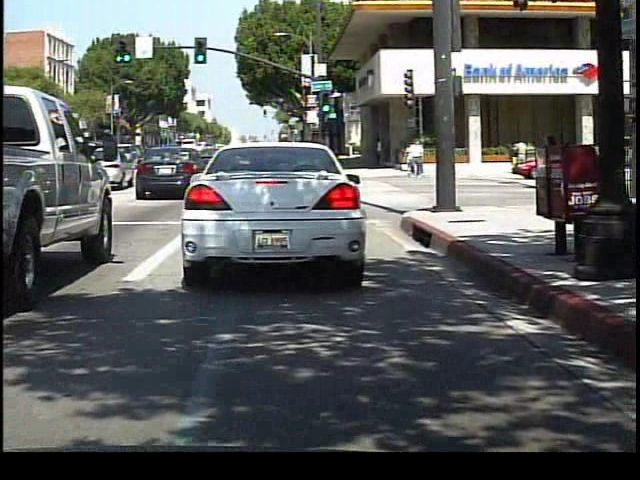person: (510, 136, 531, 177), (407, 136, 426, 179), (439, 136, 457, 174)
